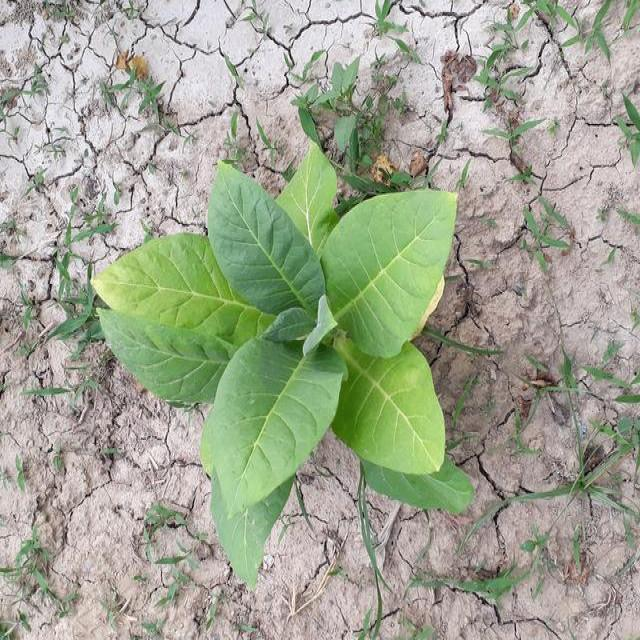crop: (98, 146, 475, 556)
